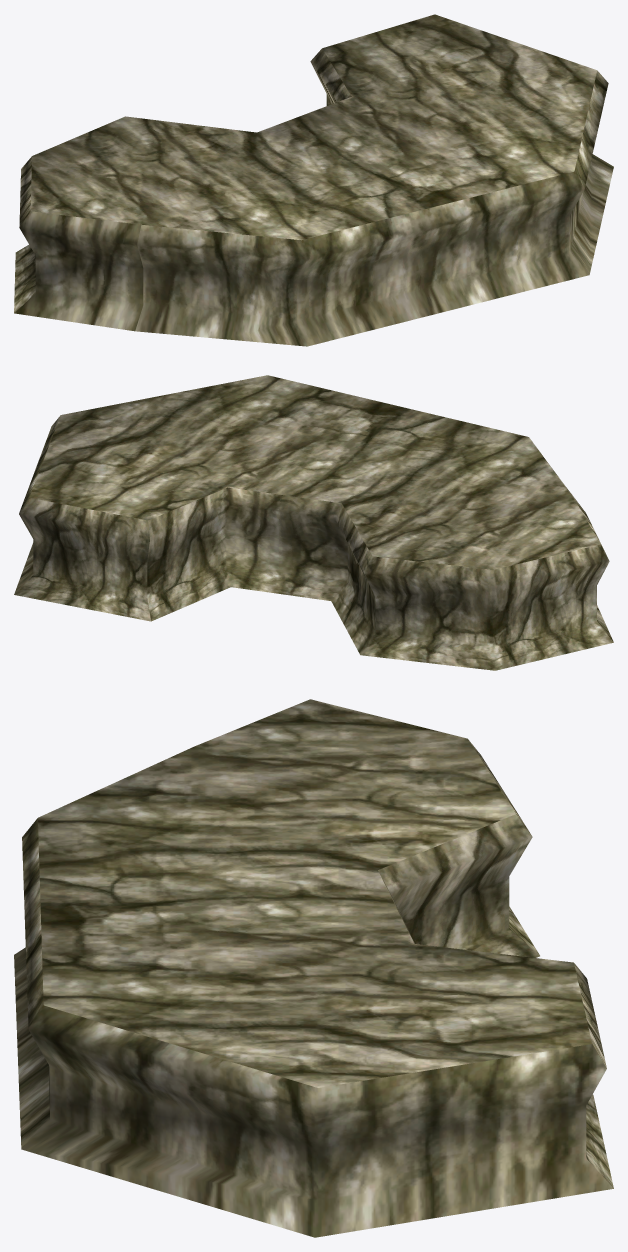
File: CB_NEWPLAYSURFACE_CB_PLAYSURFACE123.fbx
3 renders of one model, top to bottom at view 1: azimuth 30°, elevation 25°; view 2: azimuth 150°, elevation 25°; view 3: azimuth 270°, elevation 25°, orthographic. The views are drawn at different scales.
Visible parts, largest first — view 1: CB_NEWPLAYSURFACE_CB_PLAYSURFACE123; view 2: CB_NEWPLAYSURFACE_CB_PLAYSURFACE123; view 3: CB_NEWPLAYSURFACE_CB_PLAYSURFACE123.
Part boxes in pixels (left/top/right/bottom): CB_NEWPLAYSURFACE_CB_PLAYSURFACE123: left=14, top=14, right=613, bottom=346; CB_NEWPLAYSURFACE_CB_PLAYSURFACE123: left=14, top=375, right=613, bottom=670; CB_NEWPLAYSURFACE_CB_PLAYSURFACE123: left=14, top=699, right=613, bottom=1237.
Bounding box in the file's own units: 179160 × 28357 × 110843.
2 materials, 2 textured.
